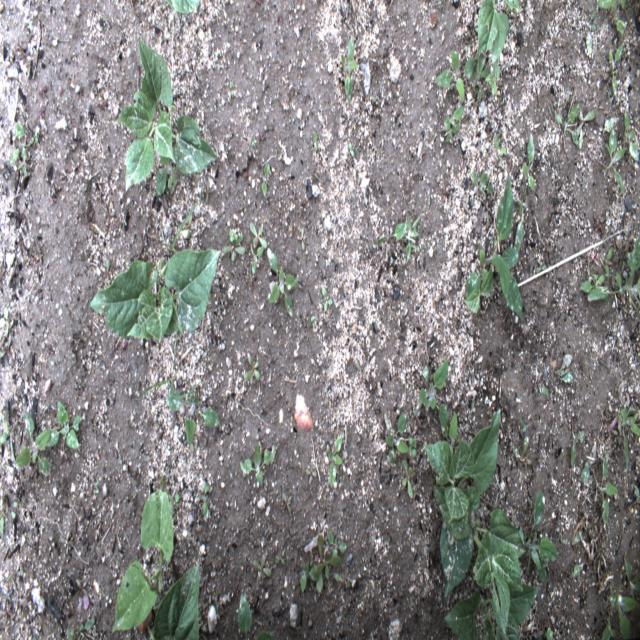crop: (116, 39, 219, 191), (423, 409, 501, 598), (433, 486, 526, 638), (90, 248, 222, 342), (112, 489, 174, 631), (444, 579, 541, 639), (145, 564, 200, 640), (478, 0, 519, 64), (463, 266, 494, 312), (484, 56, 500, 95), (163, 0, 201, 14)
weed: (462, 174, 523, 322), (518, 489, 558, 581), (602, 232, 640, 322), (166, 390, 220, 446), (581, 444, 618, 524), (16, 410, 52, 477), (433, 49, 479, 100), (45, 400, 84, 460), (157, 200, 199, 255), (267, 247, 299, 317), (594, 129, 626, 196), (419, 360, 449, 428), (238, 592, 275, 639), (612, 407, 639, 471), (440, 410, 469, 468), (315, 534, 343, 594), (240, 444, 276, 486), (383, 412, 412, 464), (553, 102, 579, 156), (610, 592, 638, 640), (596, 0, 628, 39), (341, 35, 358, 105), (9, 120, 36, 162), (139, 376, 176, 406), (512, 180, 526, 256), (579, 267, 609, 302), (154, 140, 172, 198), (404, 212, 422, 266), (474, 45, 488, 110), (522, 132, 535, 197), (372, 222, 408, 245), (624, 110, 639, 162), (550, 352, 575, 383), (444, 105, 464, 143), (573, 107, 596, 140), (0, 411, 15, 461), (329, 434, 343, 486), (609, 43, 622, 97), (570, 421, 585, 467), (582, 10, 597, 55), (469, 170, 493, 197), (223, 234, 245, 263), (328, 531, 347, 563), (66, 618, 94, 639), (300, 563, 320, 592), (513, 435, 530, 469), (248, 220, 267, 250), (625, 563, 640, 601), (401, 458, 414, 501), (242, 355, 260, 385), (5, 563, 23, 591), (250, 242, 265, 275), (252, 556, 272, 580), (198, 481, 210, 520), (173, 382, 200, 399), (479, 247, 490, 286), (592, 210, 607, 237), (469, 64, 491, 82), (182, 213, 196, 240), (334, 571, 352, 592), (60, 530, 74, 556), (100, 258, 114, 284), (494, 134, 506, 163), (603, 246, 613, 280), (280, 490, 294, 513), (304, 462, 318, 484), (261, 162, 270, 196), (0, 307, 10, 337), (75, 577, 90, 597), (320, 286, 332, 311), (0, 603, 13, 626), (202, 180, 214, 204), (562, 533, 581, 547), (156, 474, 168, 496), (354, 360, 367, 380), (14, 39, 28, 57), (0, 340, 12, 360), (578, 111, 584, 151), (169, 492, 181, 511), (519, 415, 531, 434), (564, 564, 583, 576), (533, 382, 549, 396), (103, 206, 115, 224), (173, 326, 178, 368), (17, 146, 26, 169), (167, 167, 176, 189), (85, 226, 99, 240), (608, 614, 616, 638), (0, 500, 5, 538), (169, 177, 179, 196), (408, 437, 417, 457), (601, 621, 611, 639), (36, 104, 46, 120), (228, 229, 238, 243), (633, 485, 640, 505), (300, 228, 306, 250), (347, 142, 355, 158), (275, 553, 285, 565), (38, 84, 47, 97), (546, 626, 554, 640), (11, 500, 17, 518), (22, 163, 28, 178), (314, 131, 318, 150), (34, 131, 39, 145), (94, 480, 99, 494), (0, 488, 3, 511), (309, 548, 313, 565), (310, 315, 315, 328), (230, 82, 234, 98), (251, 137, 256, 147), (200, 188, 204, 198), (259, 444, 262, 451)
